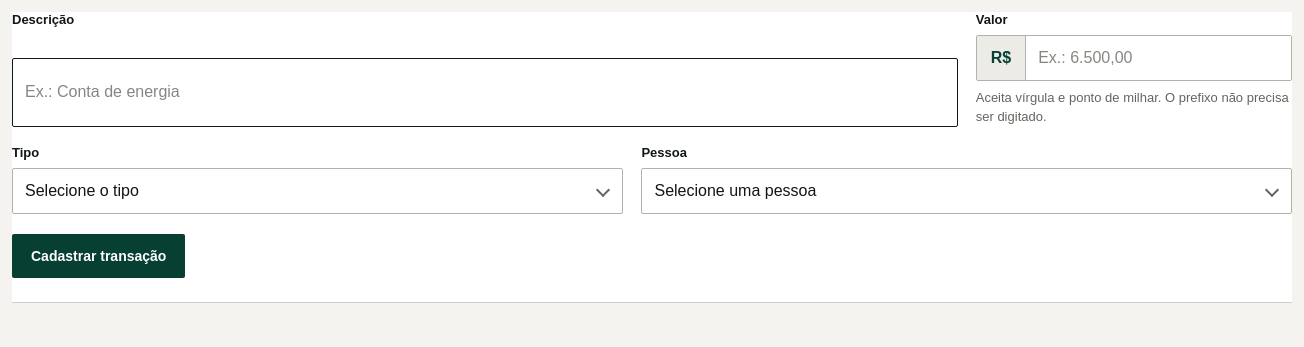
Scenario: TransactionForm › desabilita Receita para menor de 18 anos e mostra orientação
Select "Lucas Almeida - 17 anos" in the dropdown labelled "Pessoa" at (967, 191), box [642, 168, 1292, 214]
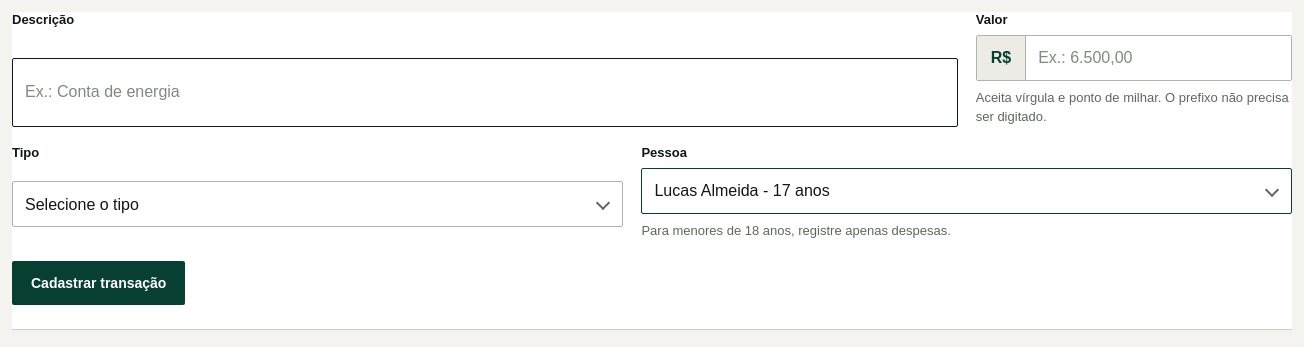
Now the text "Para menores de 18 anos, registre apenas despesas." is shown, box [642, 223, 951, 238]
